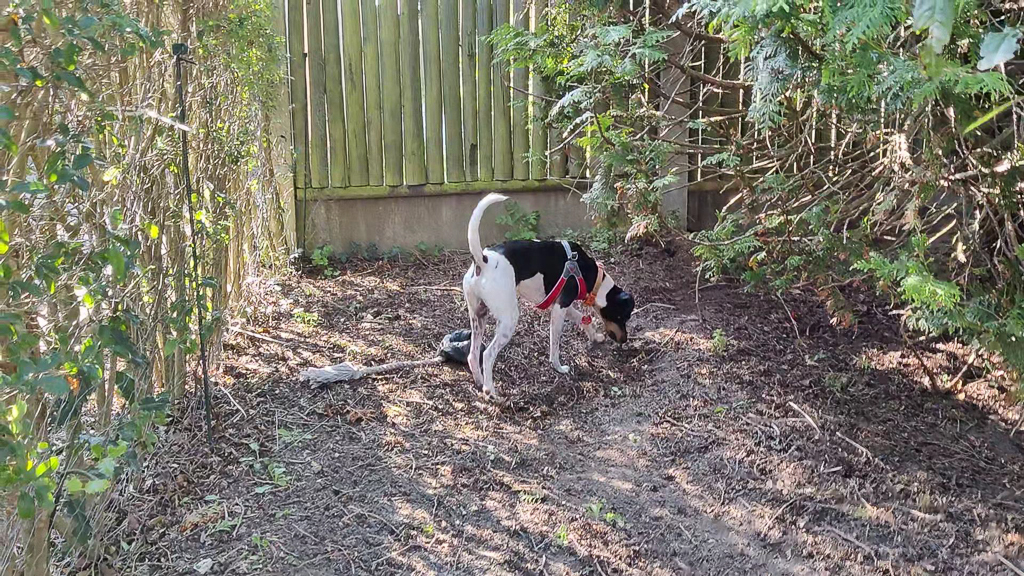Dog: (448, 185, 654, 404)
